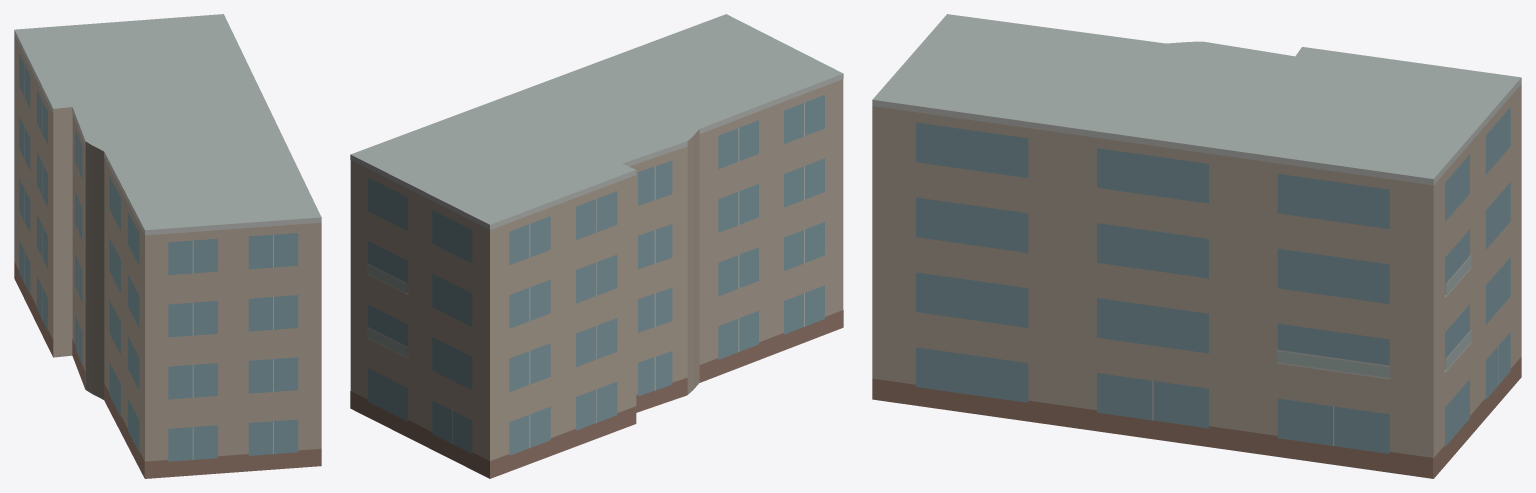
File: survey-upis-32782628.glb
The picture shows the model from 3 angles, left to right: view 1: azimuth 30°, elevation 25°; view 2: azimuth 150°, elevation 25°; view 3: azimuth 270°, elevation 25°; orthographic projection. The views are drawn at different scales.
Visible parts, largest first — view 1: survey-upis-32782628.tmp; view 2: survey-upis-32782628.tmp; view 3: survey-upis-32782628.tmp.
Part boxes in pixels (x1,y1,x2,y2): survey-upis-32782628.tmp: (14, 14, 321, 478); survey-upis-32782628.tmp: (350, 14, 843, 478); survey-upis-32782628.tmp: (872, 14, 1521, 478).
Bounding box in the file's own units: 13.72 × 11.6 × 22.78.
